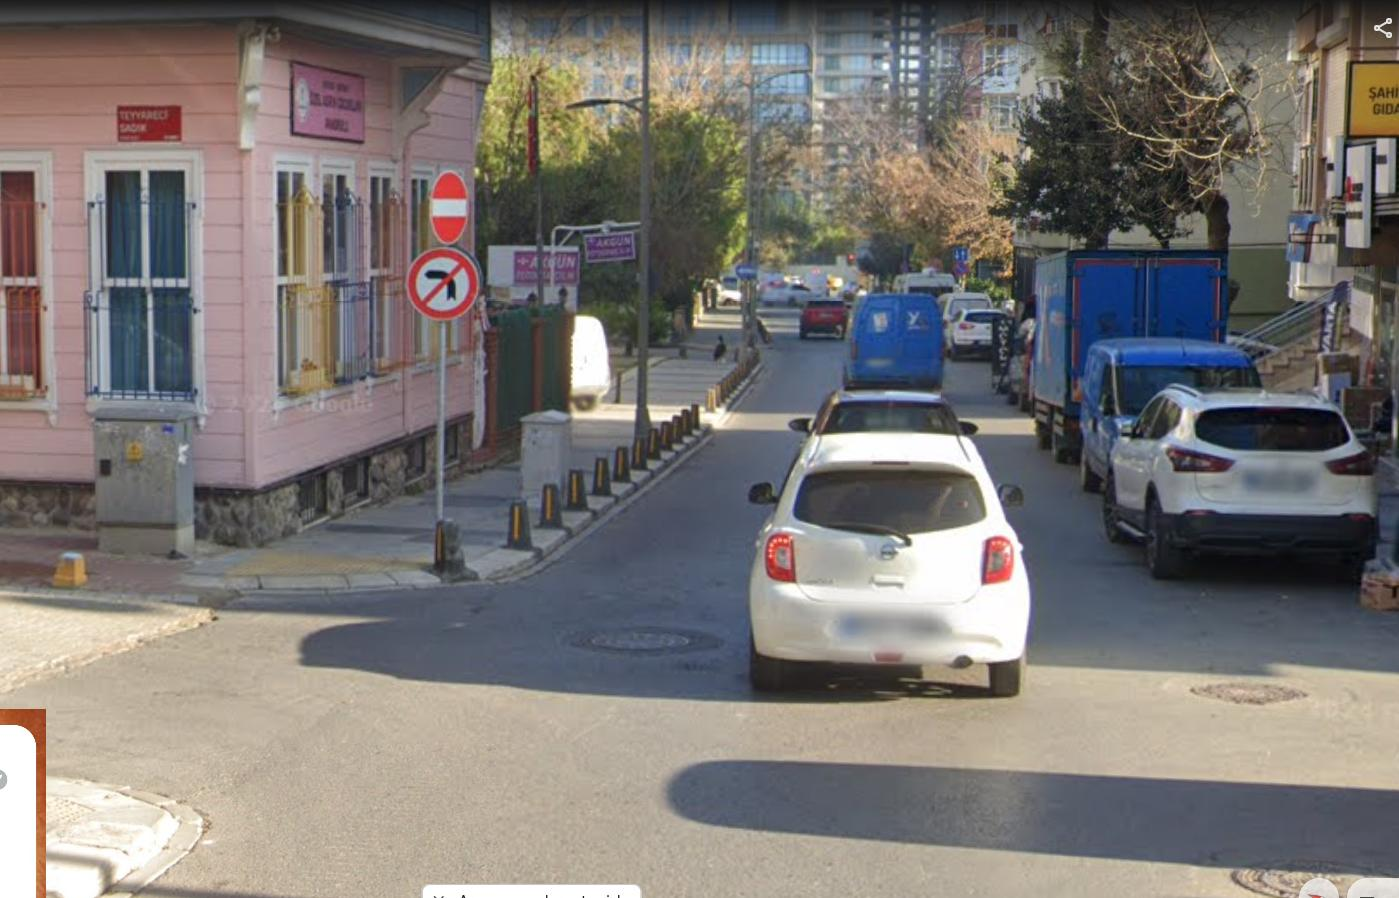leftturnsareforbidden: (410, 250, 478, 319)
